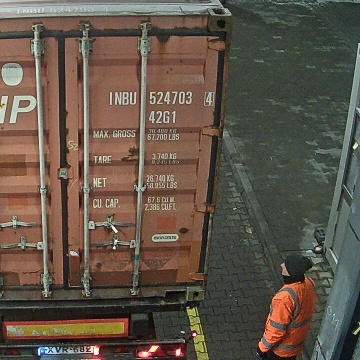serial_id: (109, 91, 213, 104)
